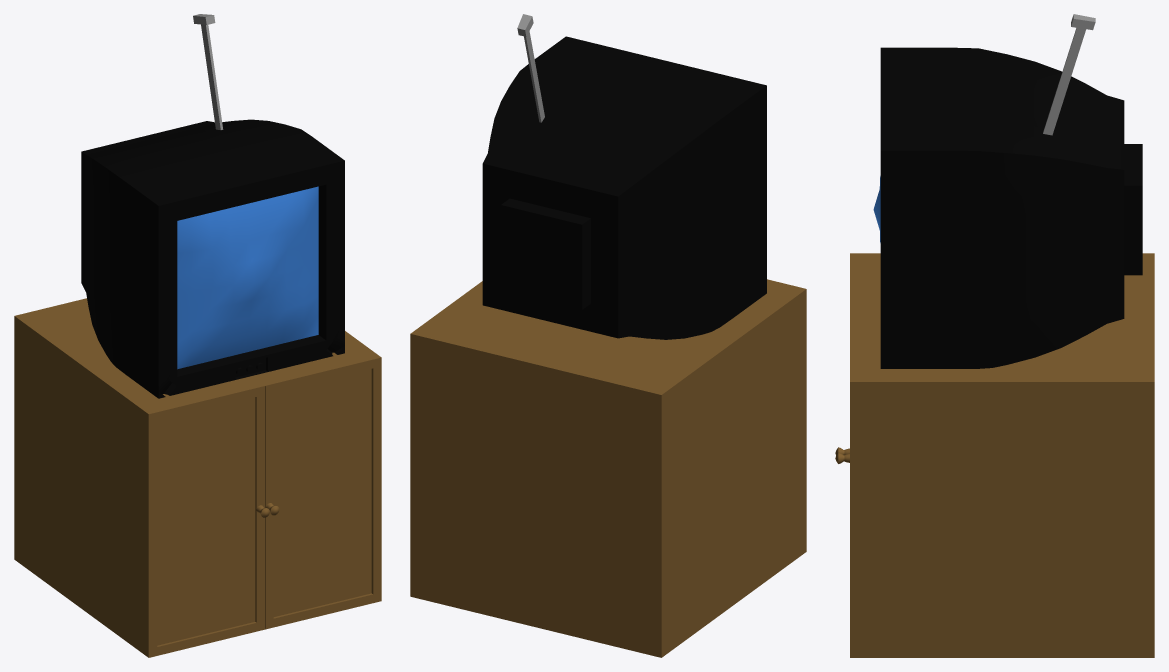
3 views of the same model, side by side, from view 1: azimuth 30°, elevation 25°; view 2: azimuth 150°, elevation 25°; view 3: azimuth 270°, elevation 25° (orthographic). The views are drawn at different scales.
Visible parts, largest first — view 1: Box003; view 2: Box003; view 3: Box003.
Boxes of the visible parts, x1=… form: Box003: x1=14, y1=14, x2=381, y2=657; Box003: x1=410, y1=14, x2=806, y2=657; Box003: x1=835, y1=14, x2=1154, y2=657.
Bounding box in the file's own units: 100 × 218 × 105.
5 materials, 1 textured.
